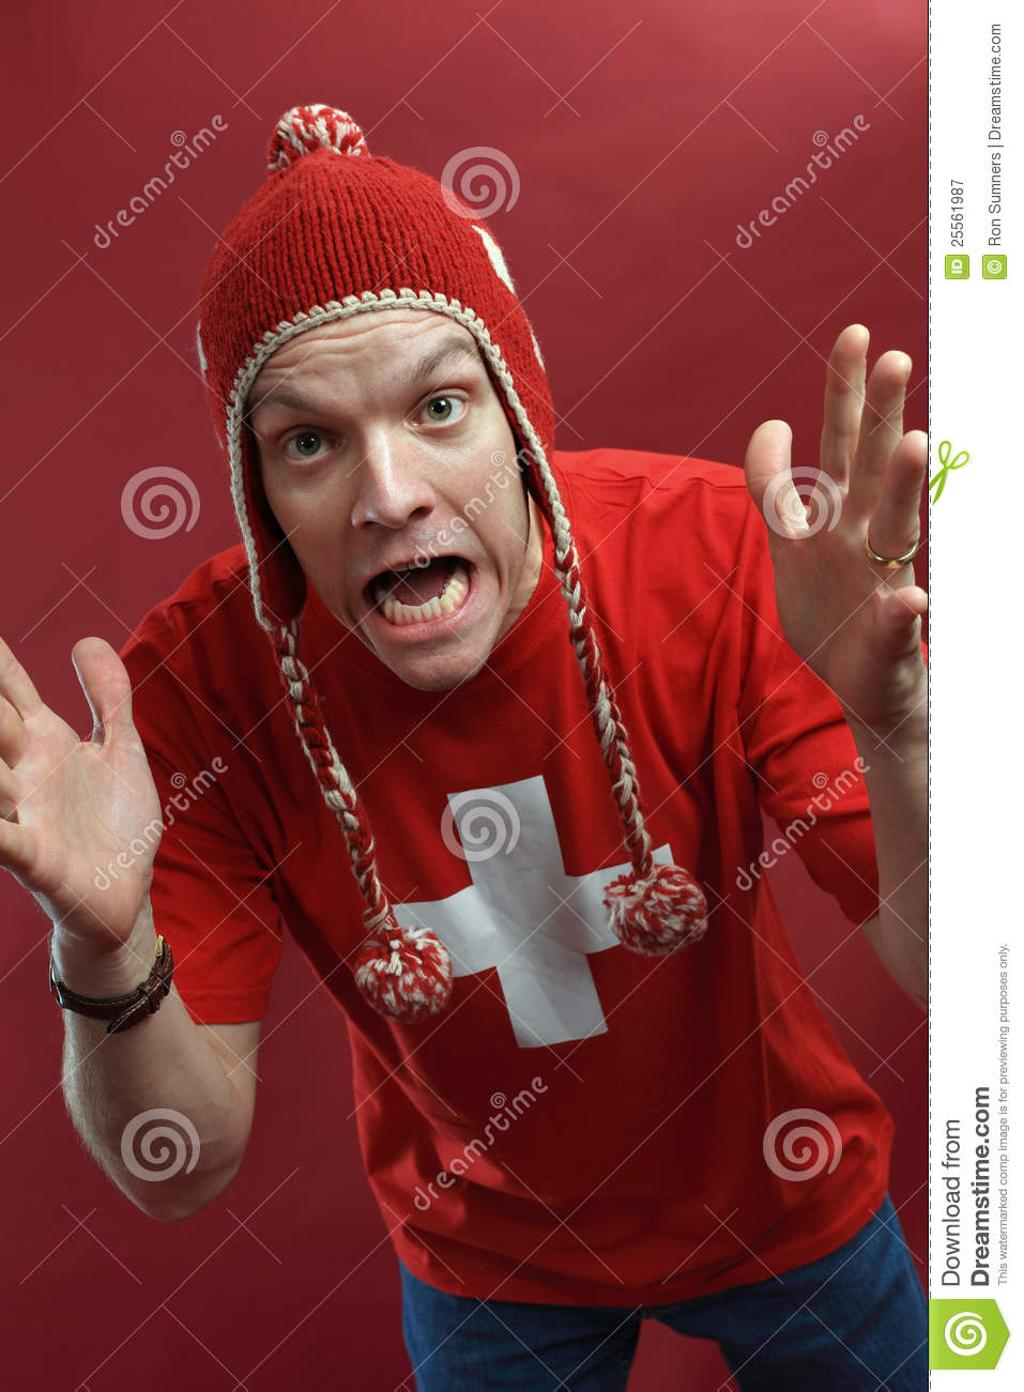face: (242, 350, 522, 692)
